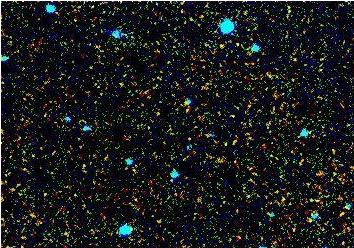star: (206, 31, 236, 61)
